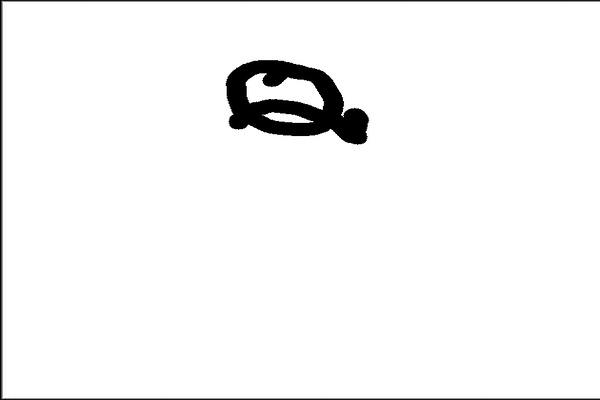Q: (220, 46, 383, 151)
